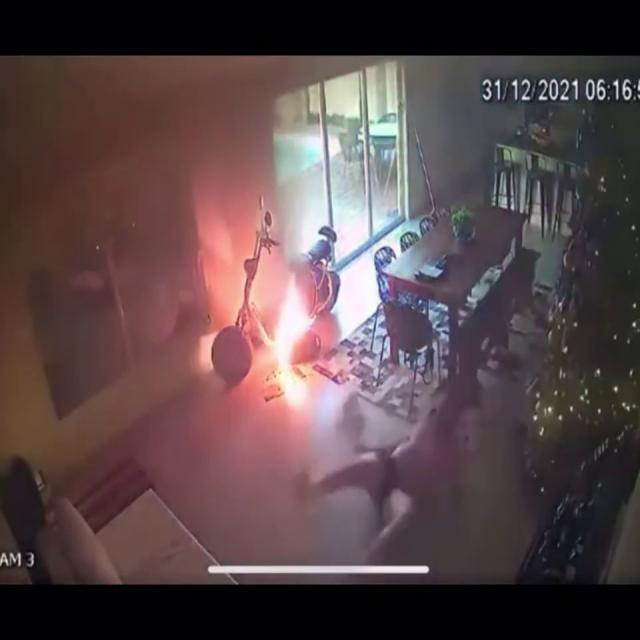Fire: (260, 262, 317, 375)
Smoke: (0, 53, 307, 284)
